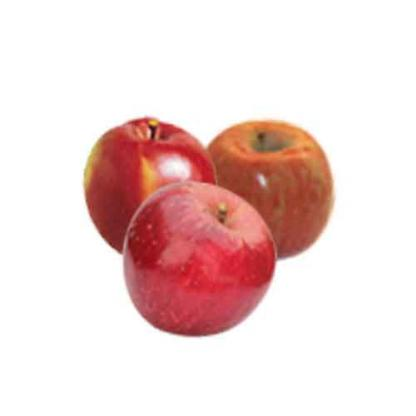apple: (122, 180, 278, 342), (195, 117, 335, 269), (81, 108, 219, 262)
